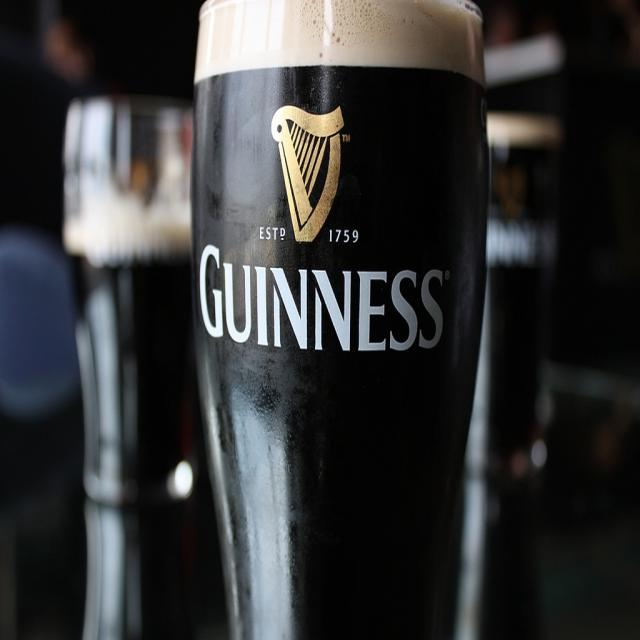guiness: (197, 102, 449, 359)
